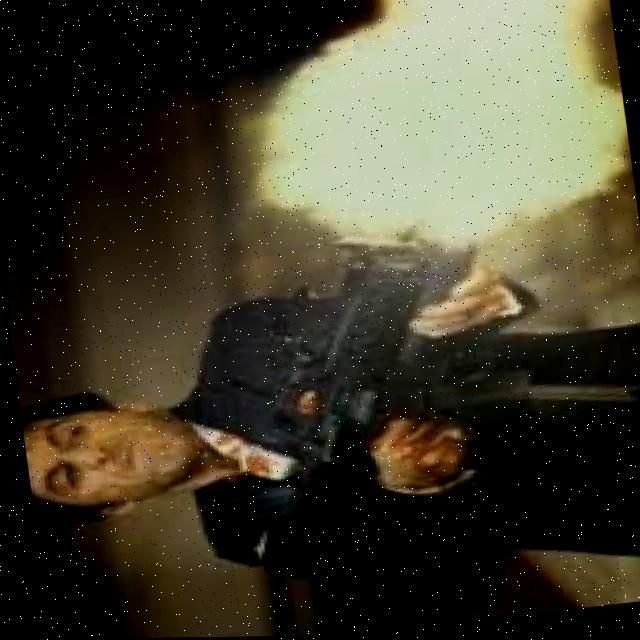firearm: (246, 214, 640, 538)
